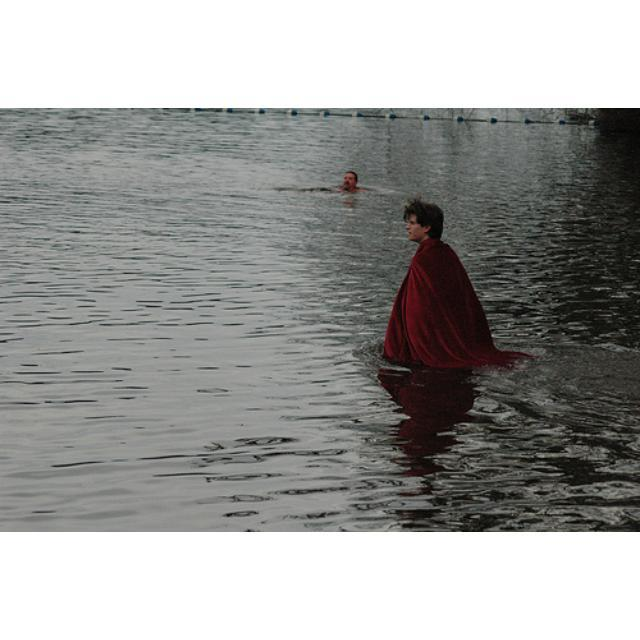human: (383, 199, 523, 369), (340, 167, 360, 191)
